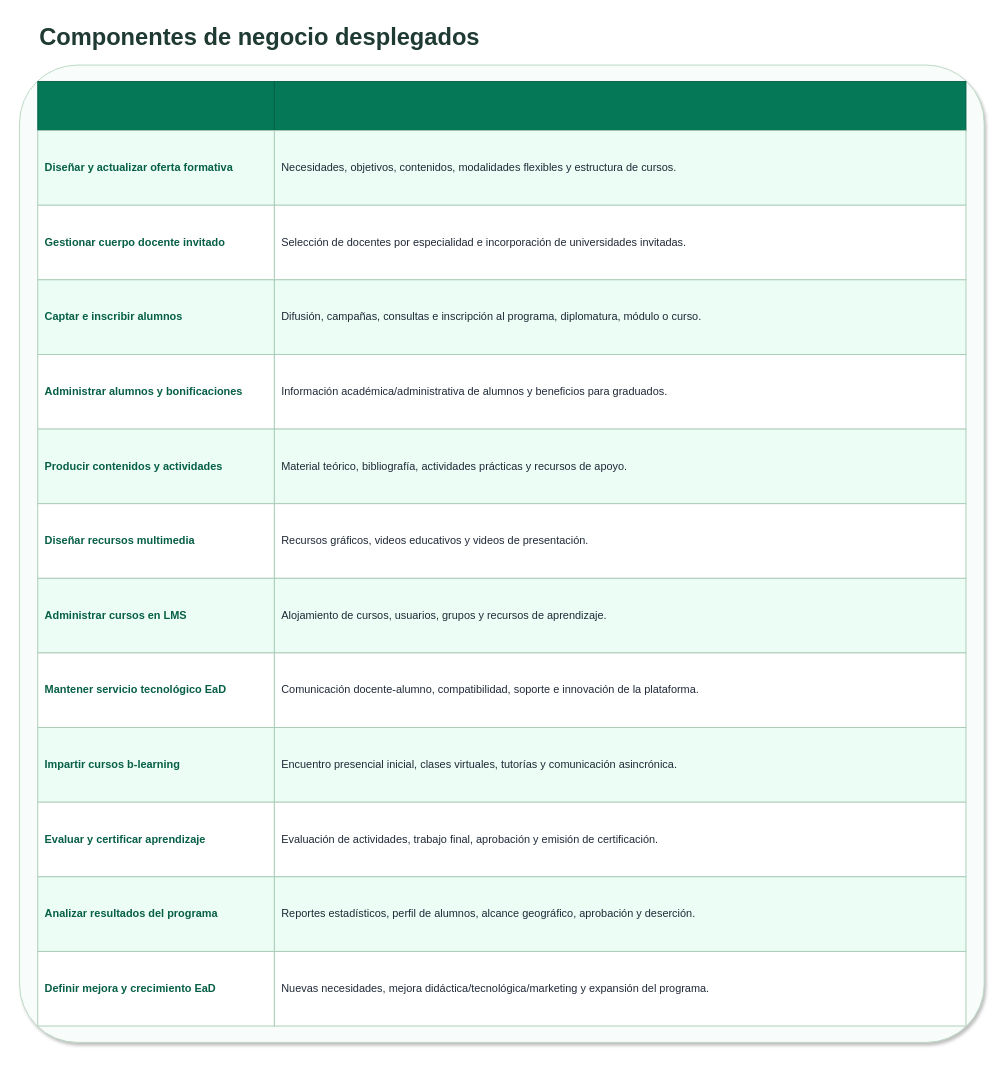
The diagram is 1006 pixels wide and 1065 high, and some of its shapes have lost their labels. The centre of each missing label's shape, as x and y in pixels:
"Componente" goes at (155,106).
"Drivers funcionales agrupados" goes at (619,106).
